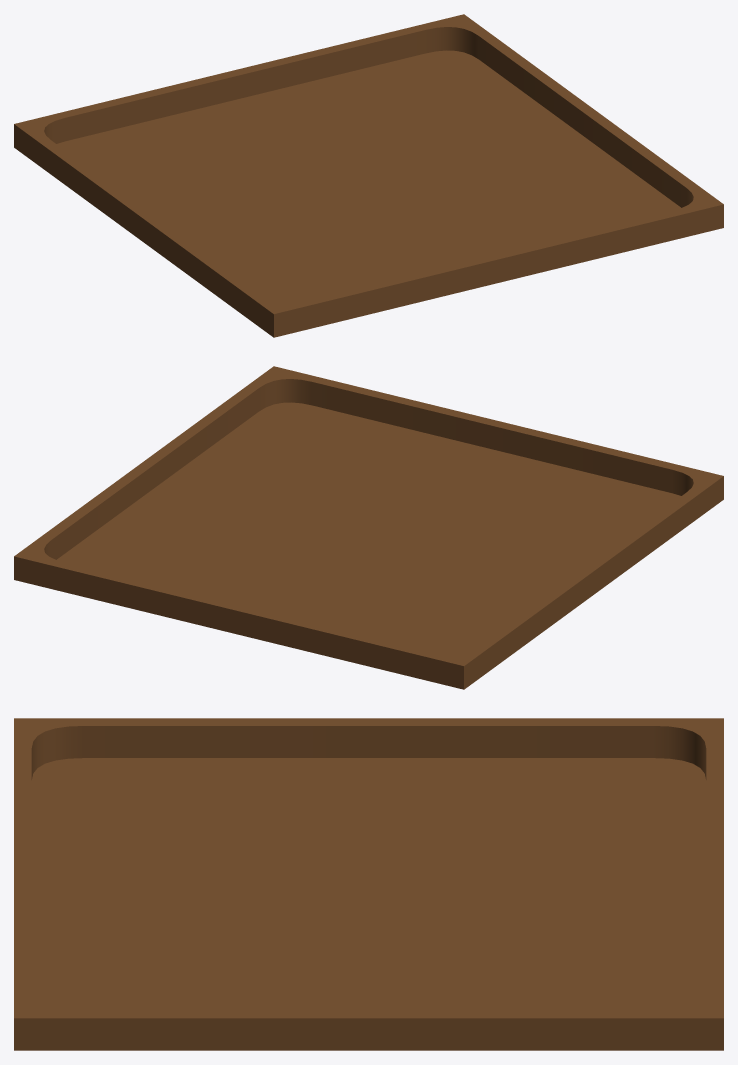
Rendered from Ceiling_B_2x2m_B.FBX.
3 renders of one model, top to bottom at view 1: azimuth 30°, elevation 25°; view 2: azimuth 150°, elevation 25°; view 3: azimuth 270°, elevation 25°, orthographic. The views are drawn at different scales.
Visible parts, largest first — view 1: Ceiling_B_2x2m_B; view 2: Ceiling_B_2x2m_B; view 3: Ceiling_B_2x2m_B.
Boxes of the visible parts, box(x1,y1,x2,y2) form: Ceiling_B_2x2m_B: box(14, 14, 723, 337); Ceiling_B_2x2m_B: box(14, 366, 723, 689); Ceiling_B_2x2m_B: box(14, 718, 723, 1050).
Bounding box in the file's own units: 200 × 10 × 200.
